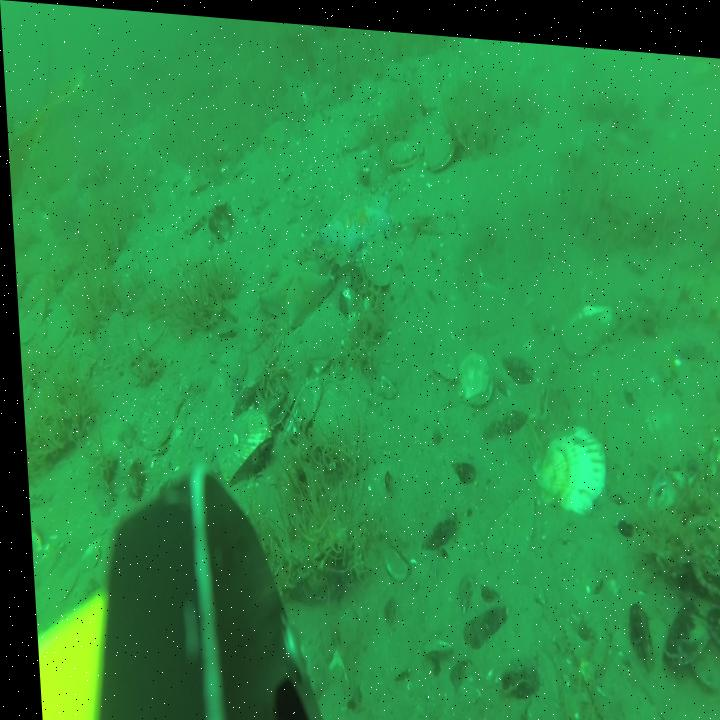scallop: (523, 412, 604, 505), (207, 404, 269, 477), (555, 288, 611, 349), (450, 341, 490, 398), (135, 391, 171, 450), (382, 130, 421, 164), (420, 125, 453, 165)
starfish: (254, 248, 333, 322), (311, 173, 387, 246)
